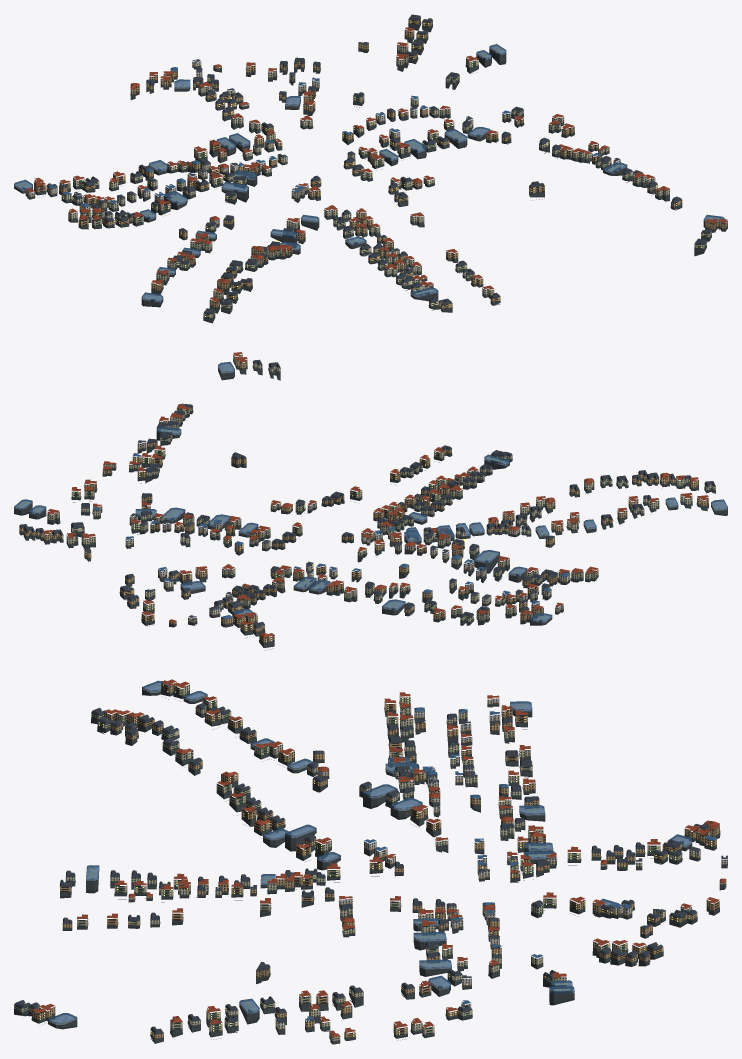
Rendered from osm_buildings_T_W02_N02_Q3.glb.
3 renders of one model, top to bottom at view 1: azimuth 30°, elevation 25°; view 2: azimuth 150°, elevation 25°; view 3: azimuth 270°, elevation 25°, orthographic. The views are drawn at different scales.
Visible parts, largest first — view 1: OSM_T_W02_N02_Q3_foundation, OSM_T_W02_N02_Q3_wall_cream_stucco, OSM_T_W02_N02_Q3_wall_french_ochre, OSM_T_W02_N02_Q3_roof_terracotta, OSM_T_W02_N02_Q3_greenhouse_blend, OSM_T_W02_N02_Q3_roof_mansard_slate, OSM_T_W02_N02_Q3_roof_mansard_deck, OSM_T_W02_N02_Q3_roof_mint_metal, OSM_T_W02_N02_Q3_wall_warm_white, OSM_T_W02_N02_Q3_balcony_railing, OSM_T_W02_N02_Q3_roof_alpine_blue, OSM_T_W02_N02_Q3_trim_cornice (+1 smaller); view 2: OSM_T_W02_N02_Q3_foundation, OSM_T_W02_N02_Q3_wall_cream_stucco, OSM_T_W02_N02_Q3_wall_french_ochre, OSM_T_W02_N02_Q3_roof_terracotta, OSM_T_W02_N02_Q3_roof_mansard_slate, OSM_T_W02_N02_Q3_greenhouse_blend, OSM_T_W02_N02_Q3_roof_mansard_deck, OSM_T_W02_N02_Q3_roof_mint_metal, OSM_T_W02_N02_Q3_trim_cornice, OSM_T_W02_N02_Q3_wall_warm_white, OSM_T_W02_N02_Q3_roof_alpine_blue, OSM_T_W02_N02_Q3_balcony_railing (+2 smaller); view 3: OSM_T_W02_N02_Q3_foundation, OSM_T_W02_N02_Q3_wall_cream_stucco, OSM_T_W02_N02_Q3_wall_french_ochre, OSM_T_W02_N02_Q3_roof_terracotta, OSM_T_W02_N02_Q3_roof_mansard_slate, OSM_T_W02_N02_Q3_greenhouse_blend, OSM_T_W02_N02_Q3_roof_mansard_deck, OSM_T_W02_N02_Q3_roof_mint_metal, OSM_T_W02_N02_Q3_trim_cornice, OSM_T_W02_N02_Q3_wall_warm_white, OSM_T_W02_N02_Q3_balcony_railing, OSM_T_W02_N02_Q3_roof_alpine_blue (+2 smaller).
Part boxes in pixels (x1=…): OSM_T_W02_N02_Q3_foundation: x1=14, y1=21, x2=727, y2=323; OSM_T_W02_N02_Q3_wall_cream_stucco: x1=59, y1=45, x2=711, y2=318; OSM_T_W02_N02_Q3_wall_french_ochre: x1=34, y1=17, x2=727, y2=309; OSM_T_W02_N02_Q3_roof_terracotta: x1=26, y1=27, x2=727, y2=311; OSM_T_W02_N02_Q3_greenhouse_blend: x1=14, y1=44, x2=725, y2=302; OSM_T_W02_N02_Q3_roof_mansard_slate: x1=47, y1=15, x2=711, y2=314; OSM_T_W02_N02_Q3_roof_mansard_deck: x1=30, y1=14, x2=722, y2=312; OSM_T_W02_N02_Q3_roof_mint_metal: x1=36, y1=24, x2=727, y2=319; OSM_T_W02_N02_Q3_wall_warm_white: x1=48, y1=61, x2=620, y2=202; OSM_T_W02_N02_Q3_balcony_railing: x1=31, y1=21, x2=725, y2=316; OSM_T_W02_N02_Q3_roof_alpine_blue: x1=48, y1=67, x2=601, y2=207; OSM_T_W02_N02_Q3_trim_cornice: x1=30, y1=17, x2=725, y2=314; OSM_T_W02_N02_Q3_foundation: x1=14, y1=360, x2=727, y2=647; OSM_T_W02_N02_Q3_wall_cream_stucco: x1=47, y1=363, x2=715, y2=622; OSM_T_W02_N02_Q3_wall_french_ochre: x1=19, y1=354, x2=708, y2=643; OSM_T_W02_N02_Q3_roof_terracotta: x1=43, y1=352, x2=710, y2=637; OSM_T_W02_N02_Q3_roof_mansard_slate: x1=19, y1=360, x2=715, y2=628; OSM_T_W02_N02_Q3_greenhouse_blend: x1=14, y1=362, x2=727, y2=622; OSM_T_W02_N02_Q3_roof_mansard_deck: x1=14, y1=359, x2=727, y2=625; OSM_T_W02_N02_Q3_roof_mint_metal: x1=19, y1=360, x2=714, y2=646; OSM_T_W02_N02_Q3_trim_cornice: x1=21, y1=354, x2=715, y2=650; OSM_T_W02_N02_Q3_wall_warm_white: x1=129, y1=442, x2=539, y2=622; OSM_T_W02_N02_Q3_roof_alpine_blue: x1=93, y1=453, x2=569, y2=619; OSM_T_W02_N02_Q3_balcony_railing: x1=43, y1=356, x2=703, y2=640; OSM_T_W02_N02_Q3_foundation: x1=14, y1=689, x2=727, y2=1044; OSM_T_W02_N02_Q3_wall_cream_stucco: x1=14, y1=685, x2=691, y2=1041; OSM_T_W02_N02_Q3_wall_french_ochre: x1=32, y1=682, x2=726, y2=1038; OSM_T_W02_N02_Q3_roof_terracotta: x1=22, y1=679, x2=726, y2=1036; OSM_T_W02_N02_Q3_roof_mansard_slate: x1=14, y1=704, x2=727, y2=1034; OSM_T_W02_N02_Q3_greenhouse_blend: x1=48, y1=680, x2=692, y2=1024; OSM_T_W02_N02_Q3_roof_mansard_deck: x1=16, y1=687, x2=707, y2=1031; OSM_T_W02_N02_Q3_roof_mint_metal: x1=14, y1=689, x2=719, y2=1040; OSM_T_W02_N02_Q3_trim_cornice: x1=15, y1=683, x2=727, y2=1040; OSM_T_W02_N02_Q3_wall_warm_white: x1=275, y1=714, x2=727, y2=1029; OSM_T_W02_N02_Q3_balcony_railing: x1=29, y1=685, x2=717, y2=1041; OSM_T_W02_N02_Q3_roof_alpine_blue: x1=305, y1=707, x2=716, y2=1020.
Size of the model in its own units: 984 by 118 by 938.
Materials: 16 (16 with a texture image).
